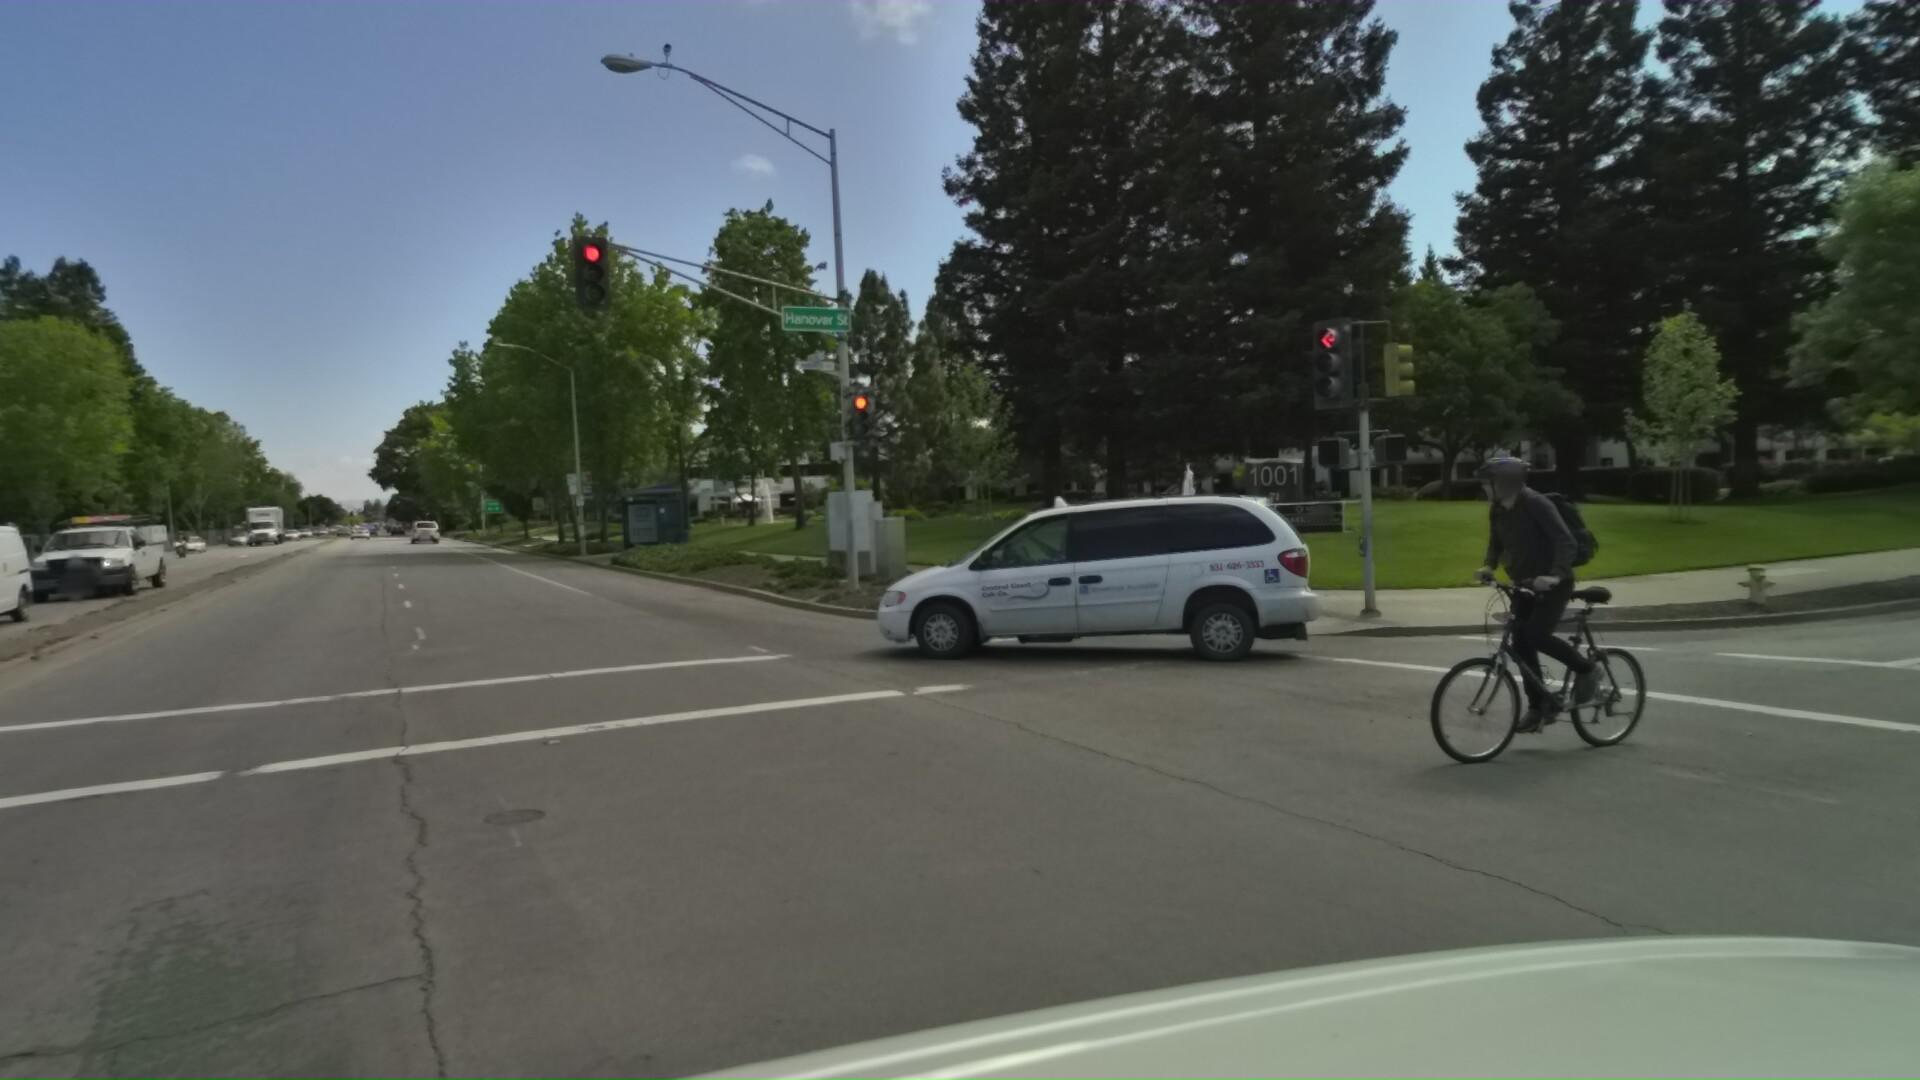bicycle: (1367, 419, 1697, 781)
car: (868, 477, 1335, 665), (36, 498, 193, 607), (0, 513, 69, 649)
motorcycle: (175, 526, 200, 553)
